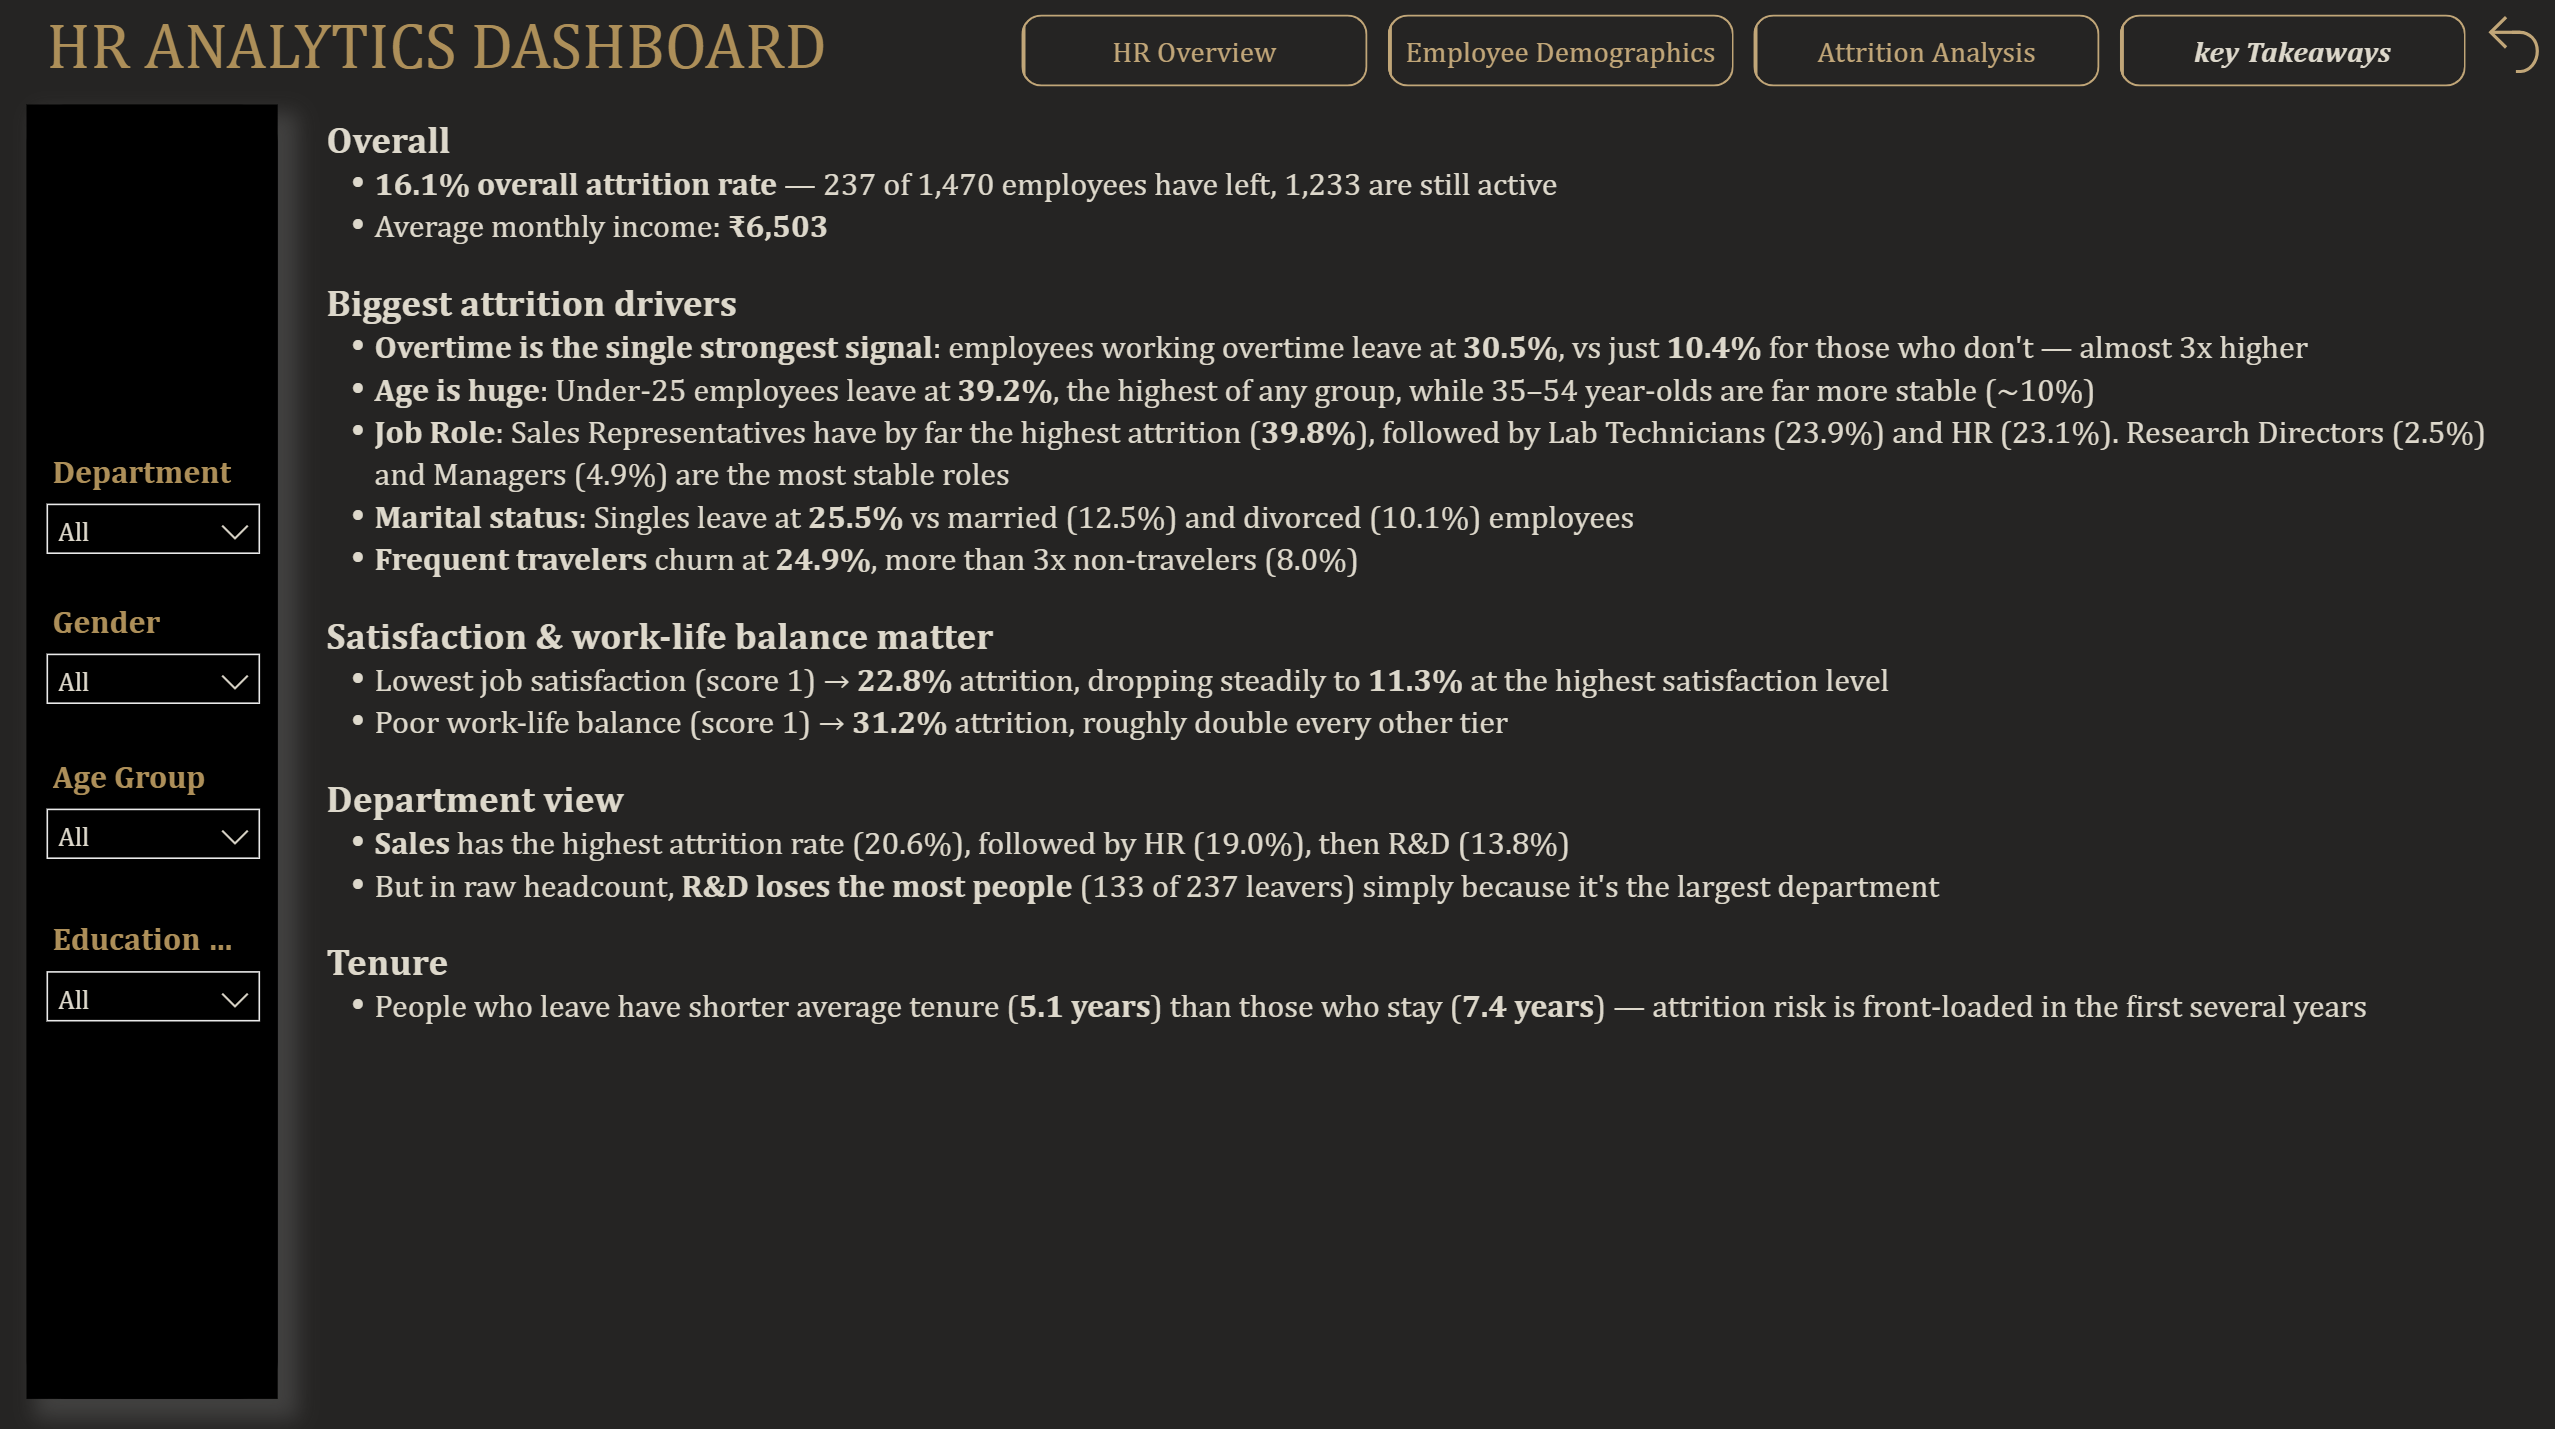

This screenshot's page, from the dashboard's own definition file:
{"tool":"powerbi","page":{"name":"key Takeaways","canvas":[1280,720],"ordinal":3},"visuals":[{"type":"actionButton","box":[1237.5,3.8,42.5,40],"z":0},{"type":"shape","box":[14.3,54.3,125.7,647.1],"z":3000},{"type":"slicer","fields":{"Values":["HR data.Department"]},"box":[13.3,222.2,126.7,64.4],"z":4000},{"type":"slicer","fields":{"Values":["HR data.Gender"]},"box":[13.3,297.8,126.7,65.6],"z":5000},{"type":"slicer","fields":{"Values":["HR data.Age Group"]},"box":[13.3,374.4,126.7,65.6],"z":6000},{"type":"slicer","fields":{"Values":["HR data.Education Field"]},"box":[13.3,456.7,126.7,65.6],"z":7000},{"type":"textbox","box":[18.9,0,790,80],"z":13000},{"type":"pageNavigator","box":[511.6,9.3,725.6,36],"z":14000},{"type":"textbox","box":[158.3,54.8,1100,621.4],"z":14001}]}

Visuals, with their boxes in screenshot pixels (x1, y1, x2, y2), scaled from the page's 1280x720 canvas onto the 2555x1429 screenshot:
actionButton: <box>2470,8,2554,87</box>
shape: <box>29,108,279,1392</box>
slicer - HR data.Department: <box>27,441,279,569</box>
slicer - HR data.Gender: <box>27,591,279,721</box>
slicer - HR data.Age Group: <box>27,743,279,873</box>
slicer - HR data.Education Field: <box>27,906,279,1037</box>
textbox: <box>38,0,1615,159</box>
pageNavigator: <box>1021,18,2470,90</box>
textbox: <box>316,109,2512,1342</box>
